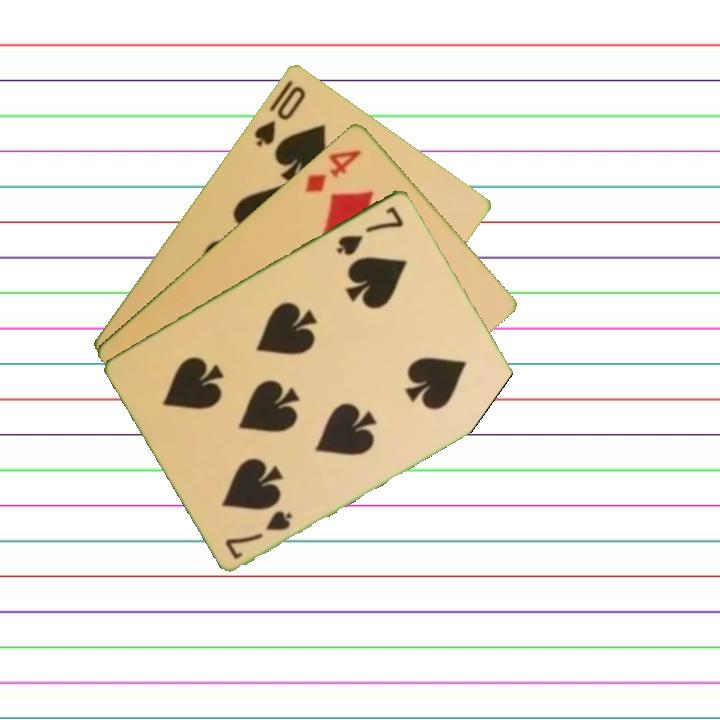10s: (250, 82, 309, 149)
4d: (301, 145, 365, 196)
7s: (332, 202, 407, 258), (221, 506, 296, 562)
